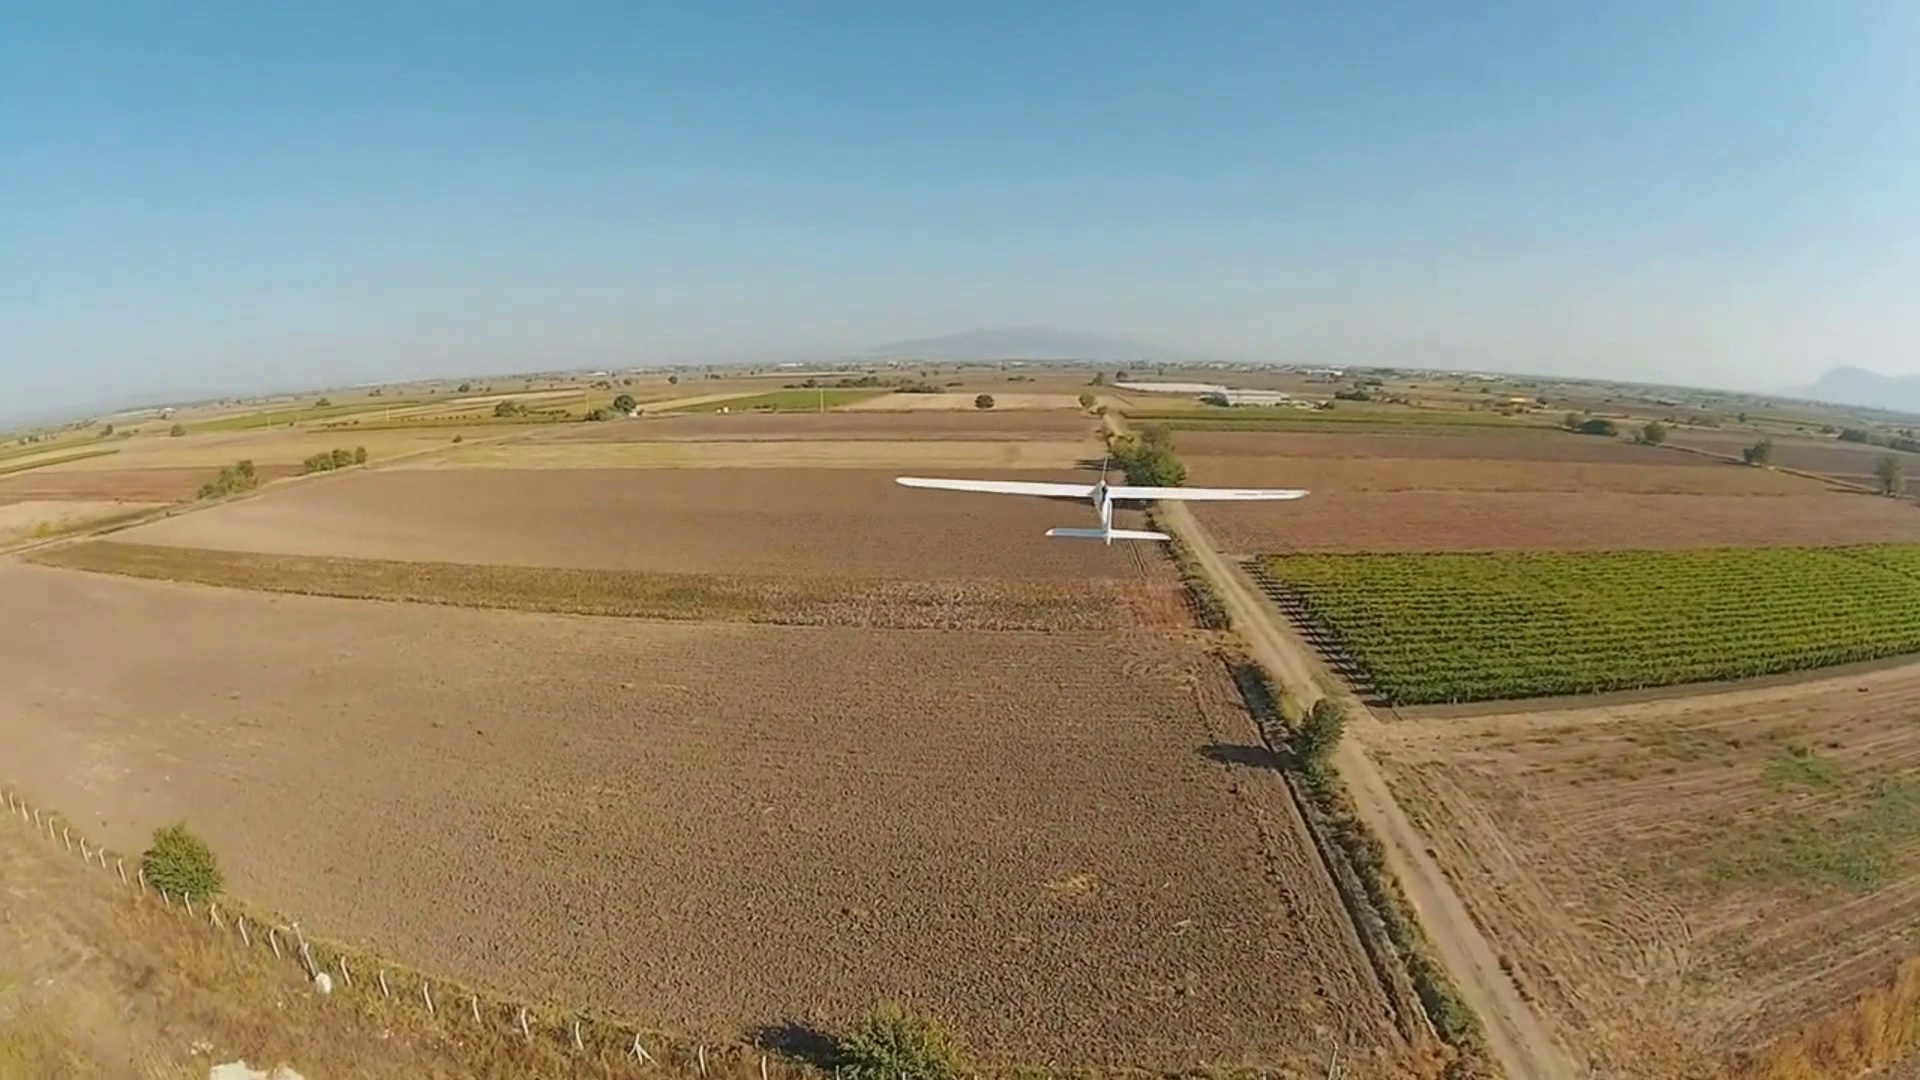airplane: (891, 465, 1305, 545)
